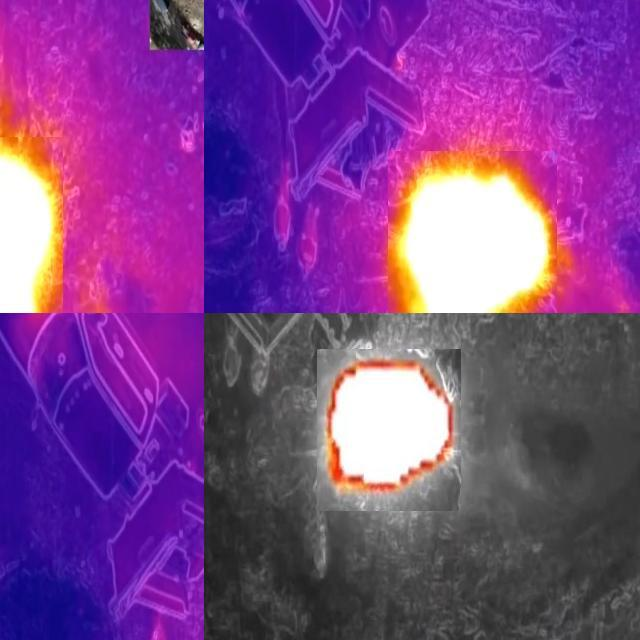fire: (388, 151, 557, 314), (317, 349, 461, 511), (1, 137, 63, 314)
